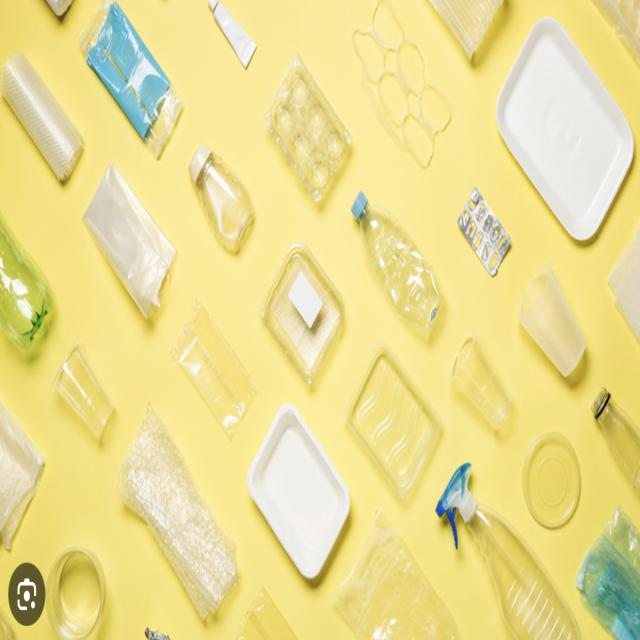recyclable: (489, 5, 638, 252), (428, 451, 592, 640), (233, 403, 369, 592), (247, 208, 357, 400), (343, 173, 458, 352), (254, 29, 366, 201), (436, 300, 534, 446), (178, 130, 258, 268), (44, 320, 124, 457)
